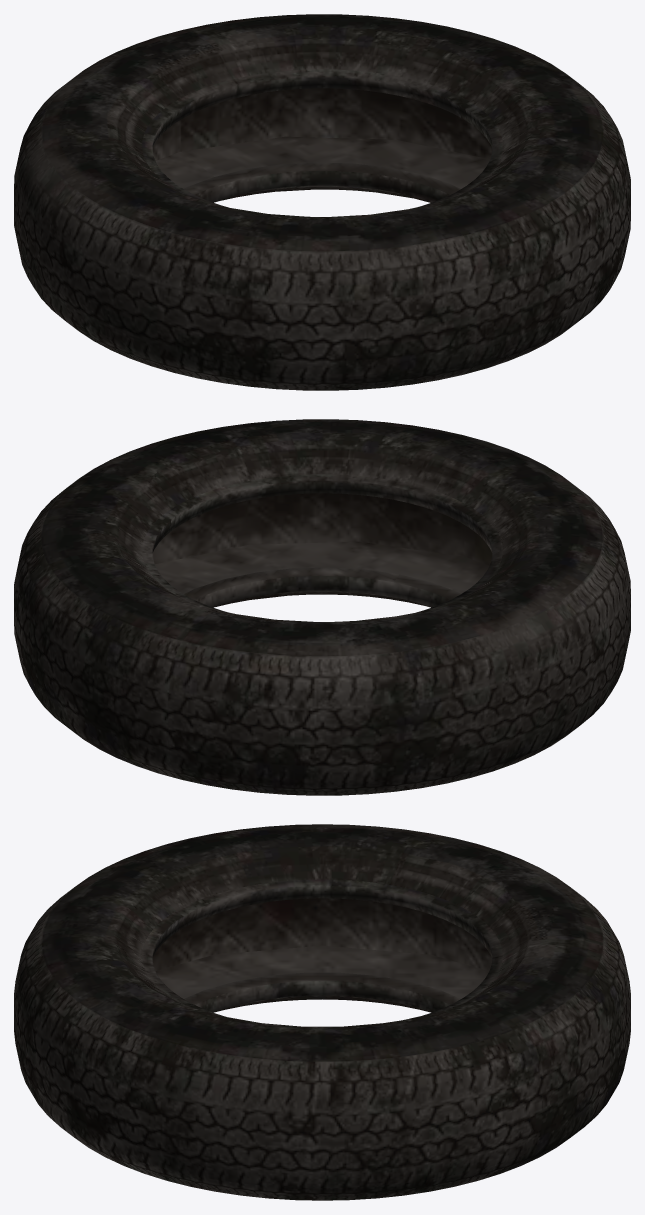
File: tyre.glb
3 views of the same model, one above another, from view 1: azimuth 30°, elevation 25°; view 2: azimuth 150°, elevation 25°; view 3: azimuth 270°, elevation 25° (orthographic).
Visible parts, largest first — view 1: old_tyre; view 2: old_tyre; view 3: old_tyre.
Boxes of the visible parts, box(x1,y1,x2,y2) form: old_tyre: box(14, 14, 630, 390); old_tyre: box(14, 419, 630, 795); old_tyre: box(14, 824, 630, 1200).
Size of the model in its own units: 0.6 by 0.165 by 0.6.
1 material, 1 textured.
